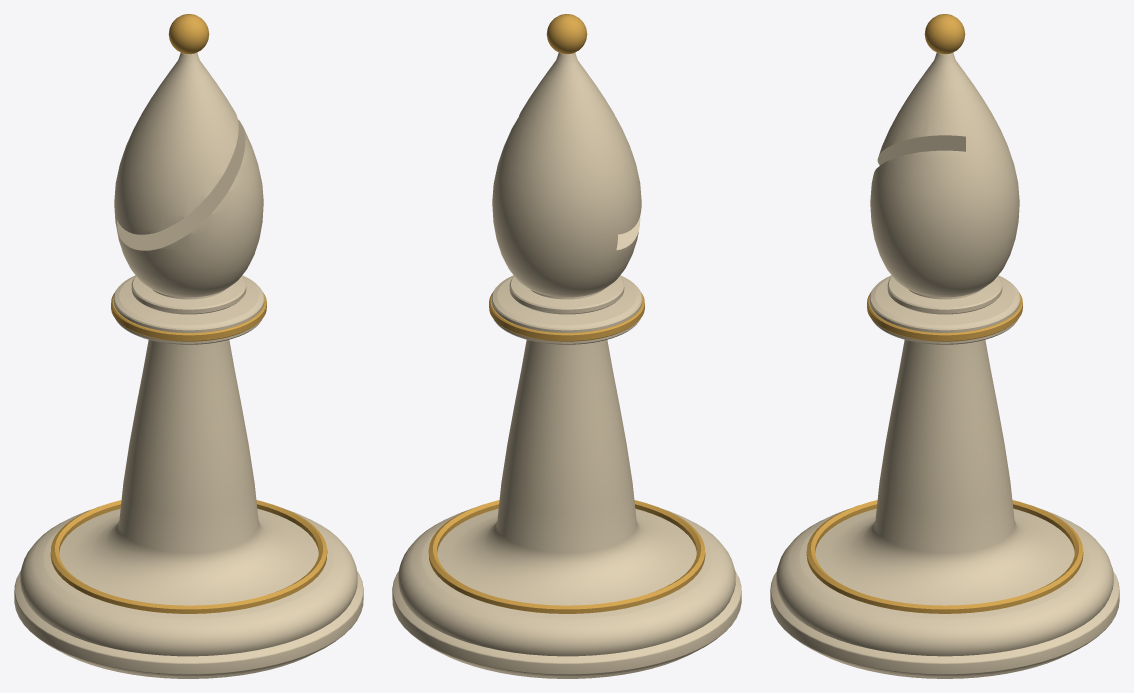
The model's file is bishop.obj.
The picture shows the model from 3 angles, left to right: view 1: azimuth 30°, elevation 25°; view 2: azimuth 150°, elevation 25°; view 3: azimuth 270°, elevation 25°; orthographic projection.
Visible parts, largest first — view 1: bishop; view 2: bishop; view 3: bishop.
Part boxes in pixels (bbox=[...]): bishop: bbox=[14, 14, 363, 678]; bishop: bbox=[392, 14, 741, 678]; bishop: bbox=[770, 14, 1119, 678].
Size of the model in its own units: 0.5 by 0.94 by 0.5.
